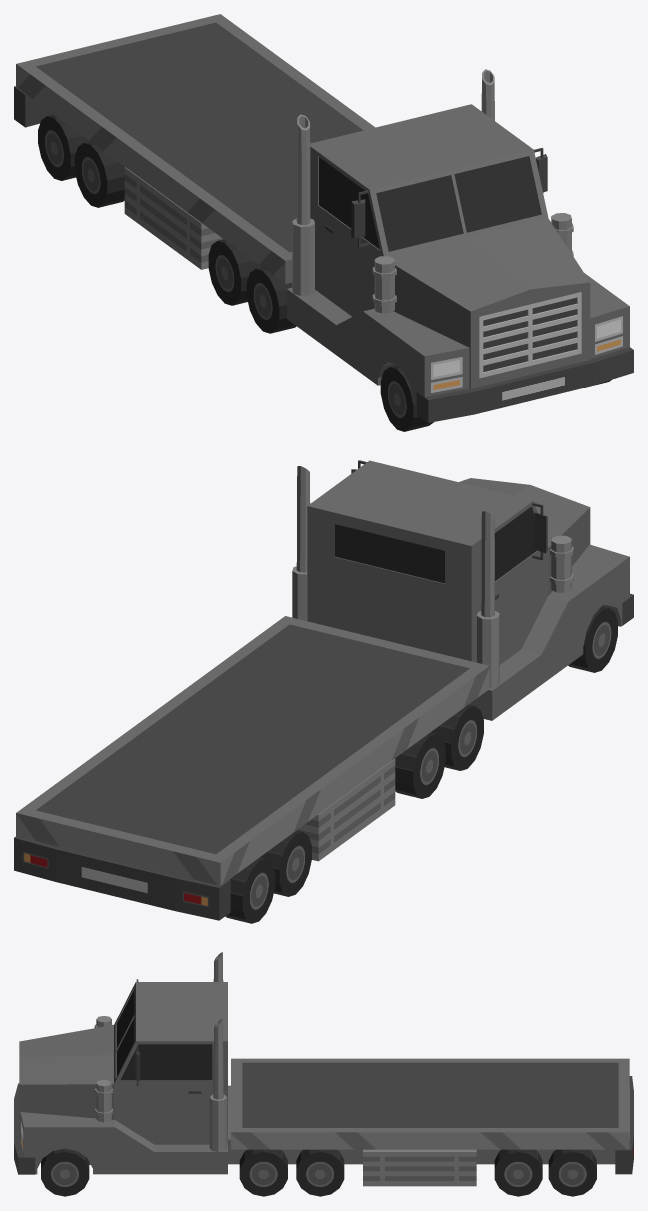
File: truck-empty.glb
The picture shows the model from 3 angles, top to bottom: view 1: azimuth 30°, elevation 25°; view 2: azimuth 150°, elevation 25°; view 3: azimuth 270°, elevation 25°; orthographic projection. The views are drawn at different scales.
Visible parts, largest first — view 1: Body, RR3, RR1, RR2, RR4, FR; view 2: Body, RR2, RR4, RR1, RR3, FR; view 3: Body, RL3, RL2, RL4, RL1, FL.
Part boxes in pixels (bbox=[...]): Body: bbox=[14, 14, 633, 422]; RR3: bbox=[74, 141, 124, 207]; RR1: bbox=[246, 267, 296, 333]; RR2: bbox=[208, 239, 261, 305]; RR4: bbox=[38, 114, 89, 180]; FR: bbox=[380, 365, 433, 431]; Body: bbox=[14, 460, 633, 920]; RR2: bbox=[395, 732, 445, 798]; RR4: bbox=[225, 857, 275, 923]; RR1: bbox=[430, 704, 483, 770]; RR3: bbox=[260, 830, 311, 896]; FR: bbox=[568, 606, 617, 672]; Body: bbox=[14, 952, 633, 1186]; RL3: bbox=[494, 1149, 542, 1196]; RL2: bbox=[296, 1149, 344, 1196]; RL4: bbox=[548, 1149, 596, 1196]; RL1: bbox=[239, 1149, 287, 1196]; FL: bbox=[41, 1148, 89, 1196].
Size of the model in its own units: 3.94 by 4.3 by 13.88.
1 material, 1 textured.
